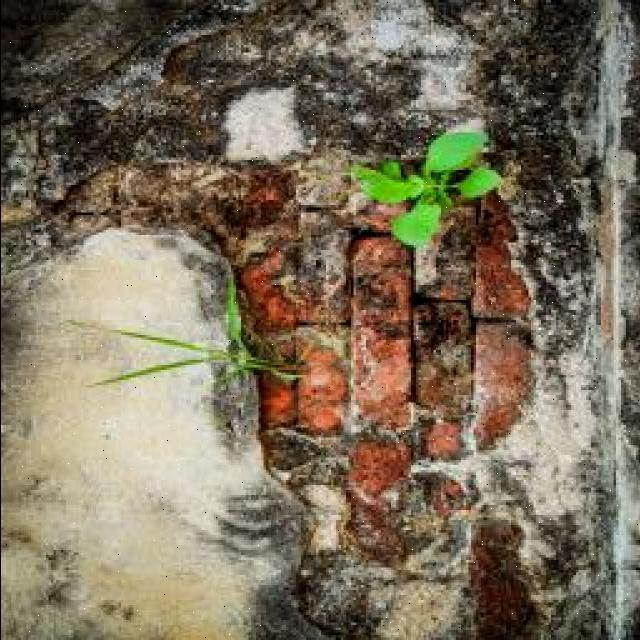crack: (2, 0, 637, 638)
dampness: (253, 267, 640, 621), (23, 10, 324, 232), (392, 0, 640, 216)
vegetation: (346, 102, 510, 270)
